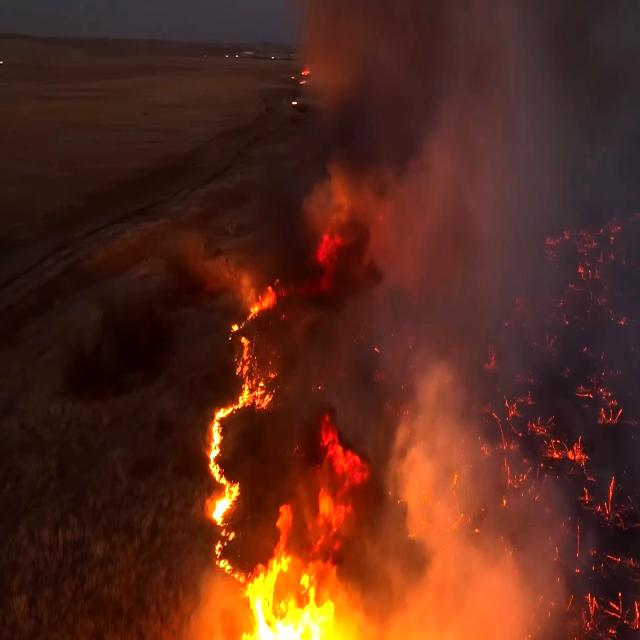fire: (222, 534, 324, 640)
smoke: (391, 0, 603, 346), (390, 386, 580, 640), (300, 0, 610, 119)
